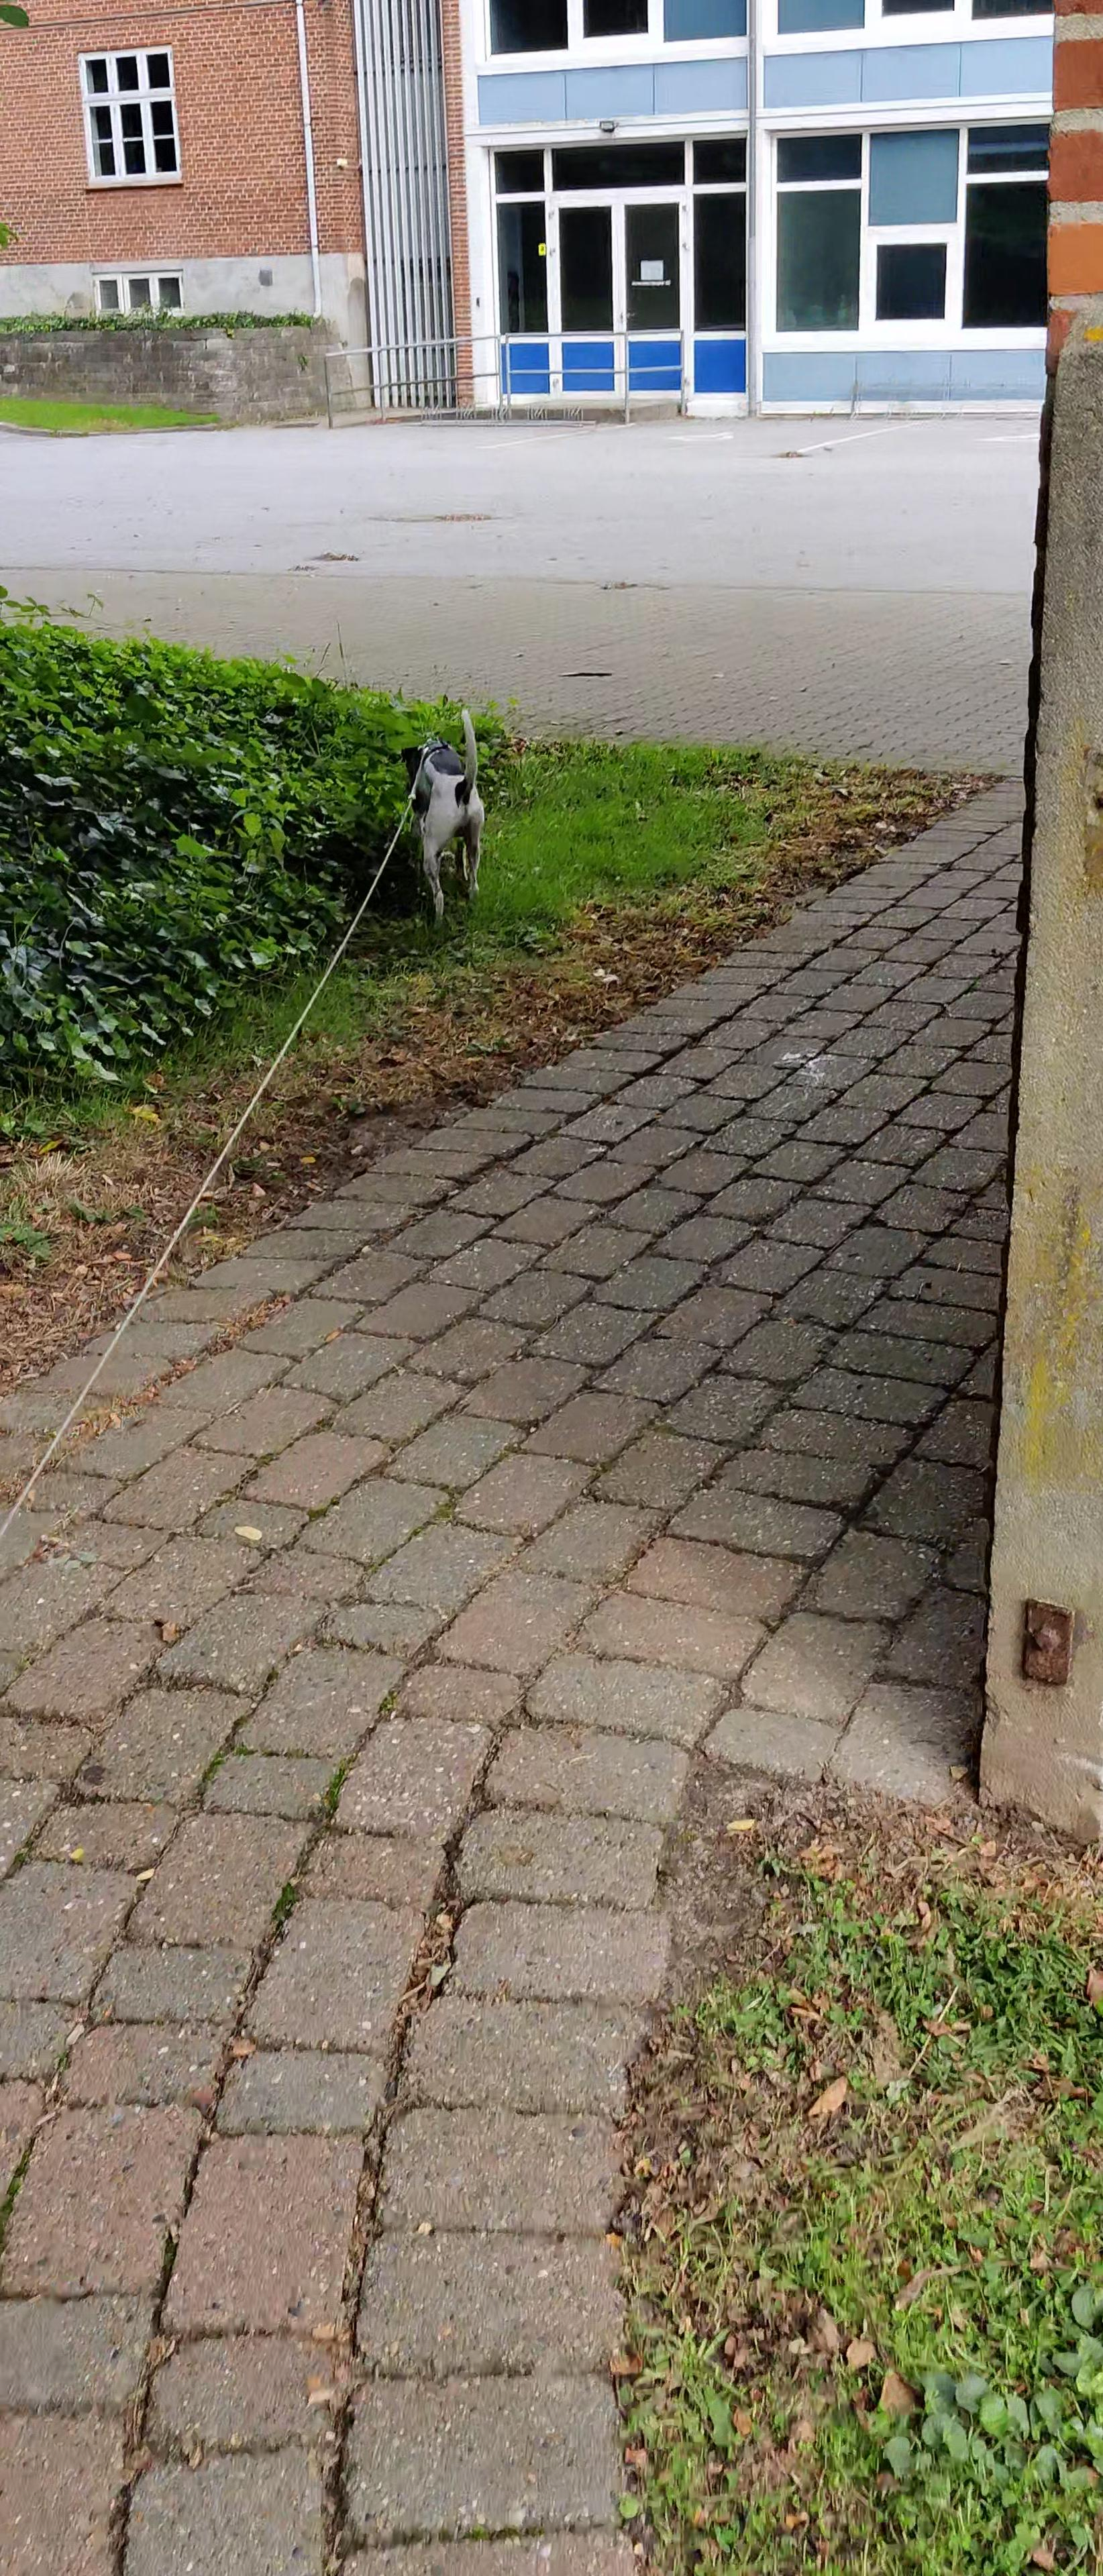Dog: (393, 701, 492, 930)
